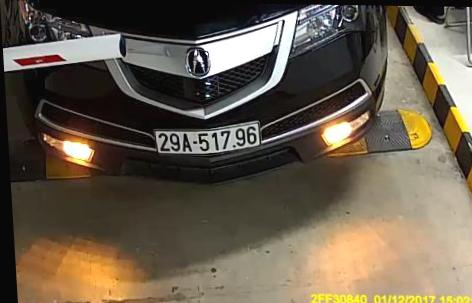License_Plate: (150, 120, 267, 158)
